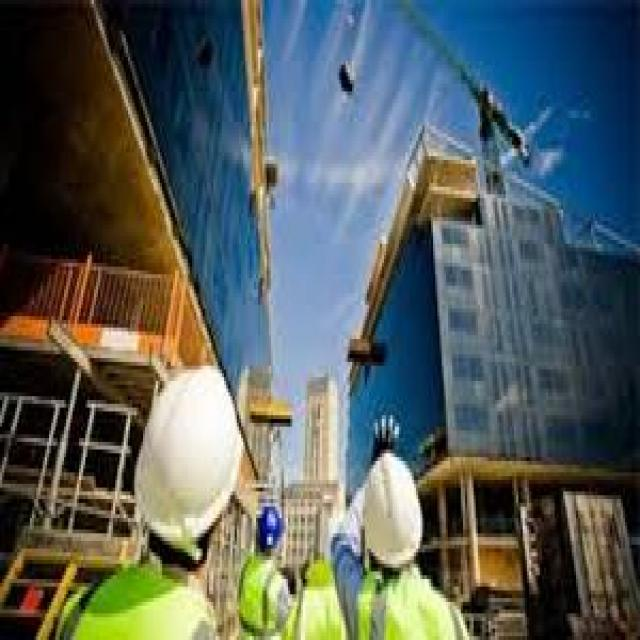Reflective-Jacket: (56, 552, 218, 640), (352, 571, 467, 640), (235, 552, 288, 636), (299, 556, 350, 636)
Safety-Helmet: (124, 354, 245, 552), (358, 446, 427, 575), (252, 499, 288, 556)
